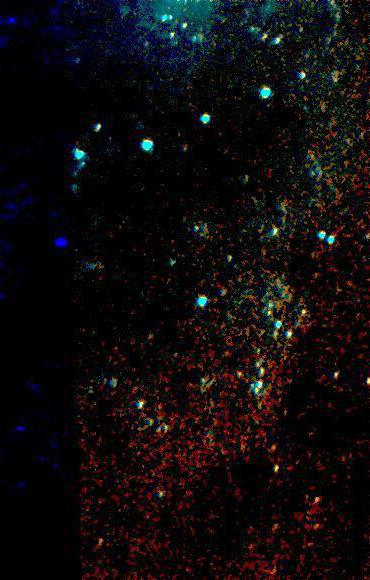star: (256, 430, 286, 460)
